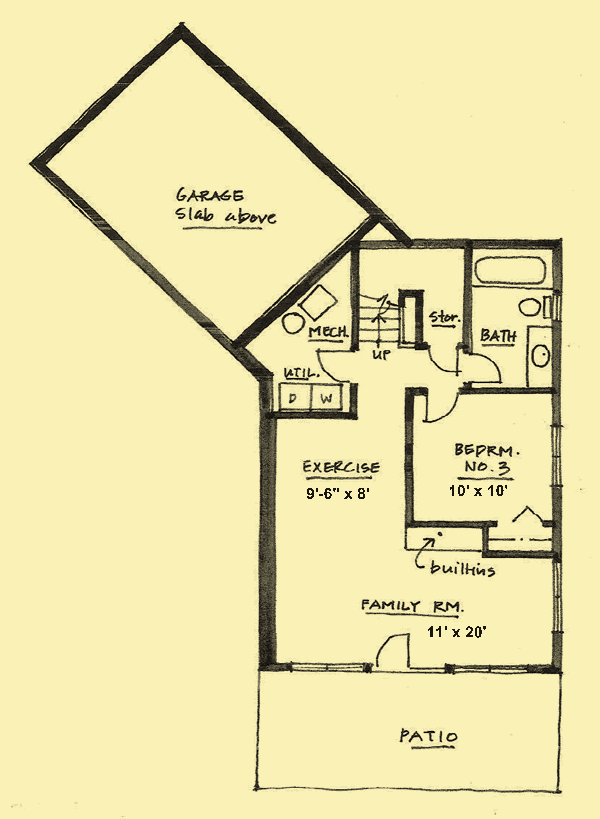door: (422, 388, 459, 426), (467, 348, 503, 386), (313, 347, 350, 380), (378, 633, 411, 670), (424, 342, 462, 373)
large_sink: (523, 327, 554, 390)
stairs: (356, 287, 403, 366)
tub: (468, 244, 560, 291)
windows: (436, 660, 529, 683), (547, 559, 566, 633), (288, 659, 366, 676), (548, 417, 566, 487)
